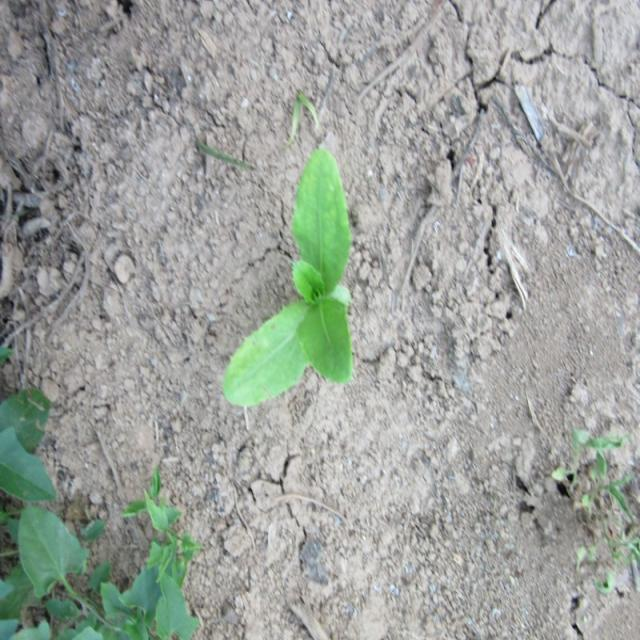cs: (223, 144, 354, 411)
